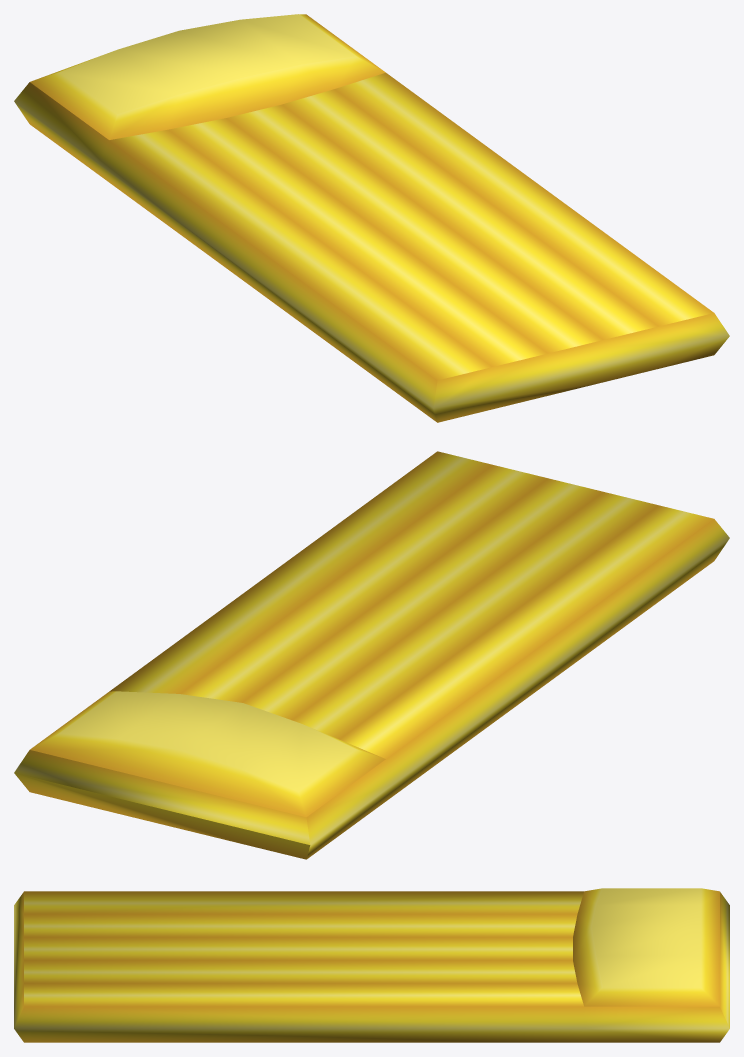
File: Inflatable_Bed_01.FBX
3 views of the same model, one above another, from view 1: azimuth 30°, elevation 25°; view 2: azimuth 150°, elevation 25°; view 3: azimuth 270°, elevation 25° (orthographic). The views are drawn at different scales.
Parts seen in each view (by area): view 1: Inflatable_Bed_01; view 2: Inflatable_Bed_01; view 3: Inflatable_Bed_01.
Part boxes in pixels (x1=…): Inflatable_Bed_01: x1=14, y1=14, x2=729, y2=422; Inflatable_Bed_01: x1=14, y1=451, x2=729, y2=859; Inflatable_Bed_01: x1=14, y1=888, x2=729, y2=1042.
Size of the model in its own units: 0.8171 by 2 by 0.1789.
